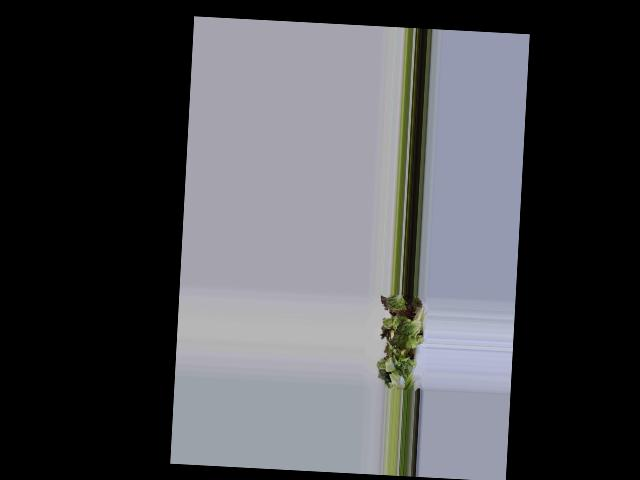lettuce: (379, 297, 419, 385)
